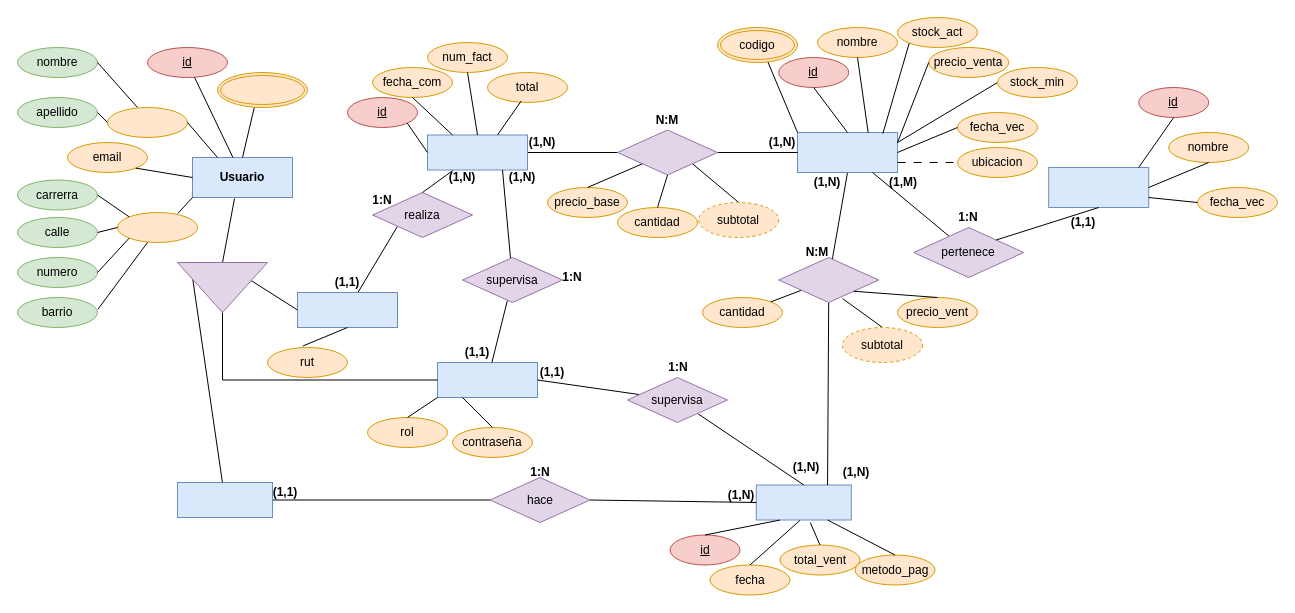
This 1295x613 diagram has some shape labels left out. Here are the shapes that lost their labels. From the top down, the centre of each, then its label:
point (262, 90): telefonos
point (147, 122): nombre_com
point (477, 152): Compra
point (667, 152): almacena
point (847, 152): Producto
point (1098, 187): Categoria
point (157, 227): direccion
point (222, 287): Es un
point (828, 279): tiene
point (347, 310): Proveedor
point (487, 380): Usuario_sistema
point (224, 500): Cliente
point (803, 502): Venta
